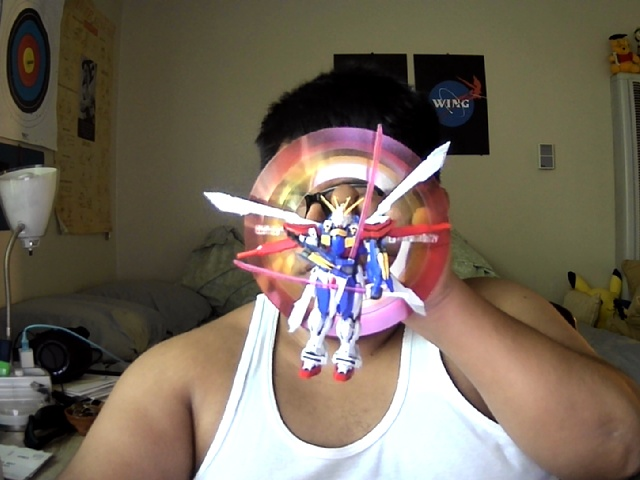God: (201, 124, 456, 380)
